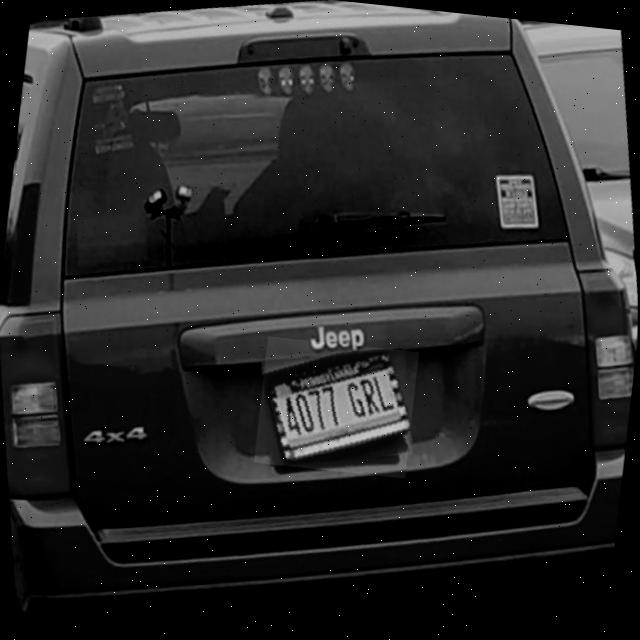LicensePlate: (263, 349, 411, 465)
